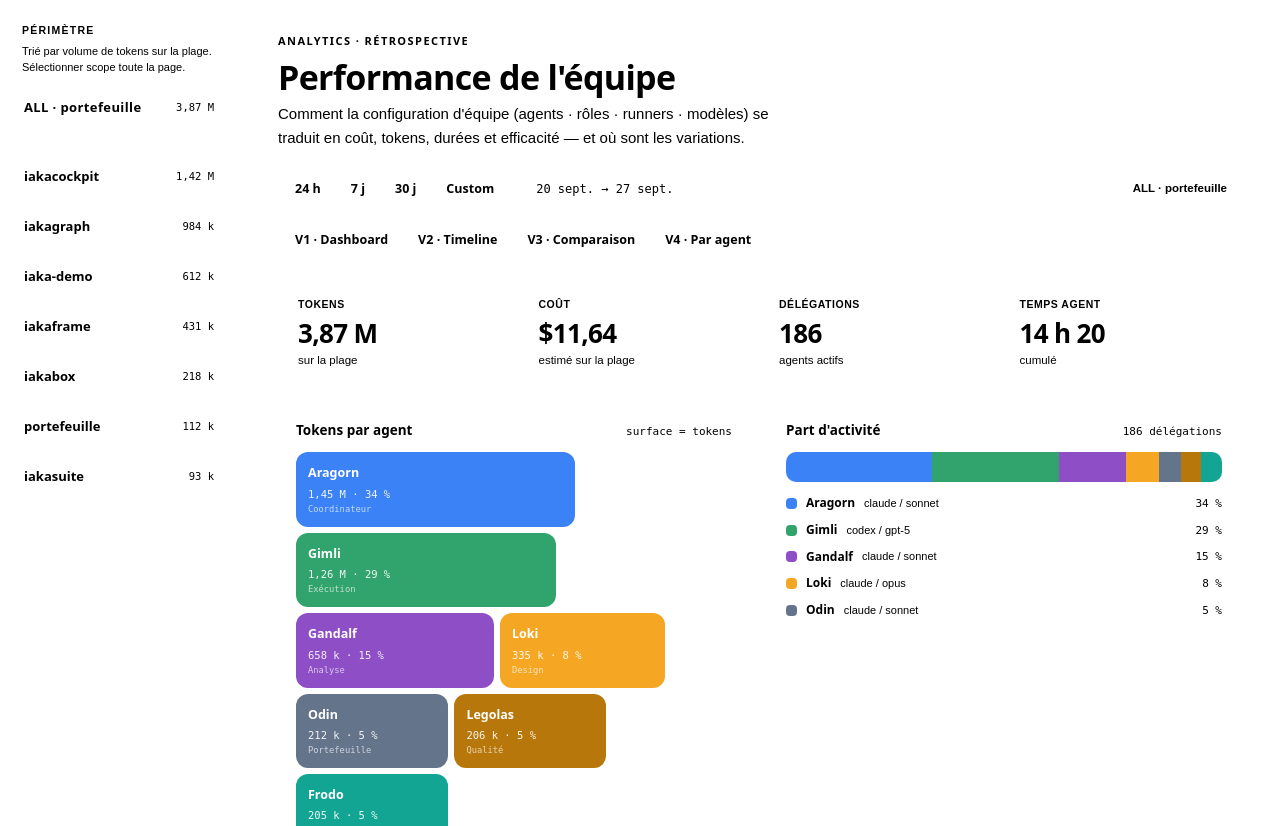
Test: AnalyticsView — toggle de perspective › commute V1→V2→V3→V4 (démo dev-gardée substituée, données réelles absentes)
Expected: the text "Tokens par agent" is shown, [296,420,412,440]
Click the tab "V2 · Timeline". click: (458,240)
box: [404,224,511,255]
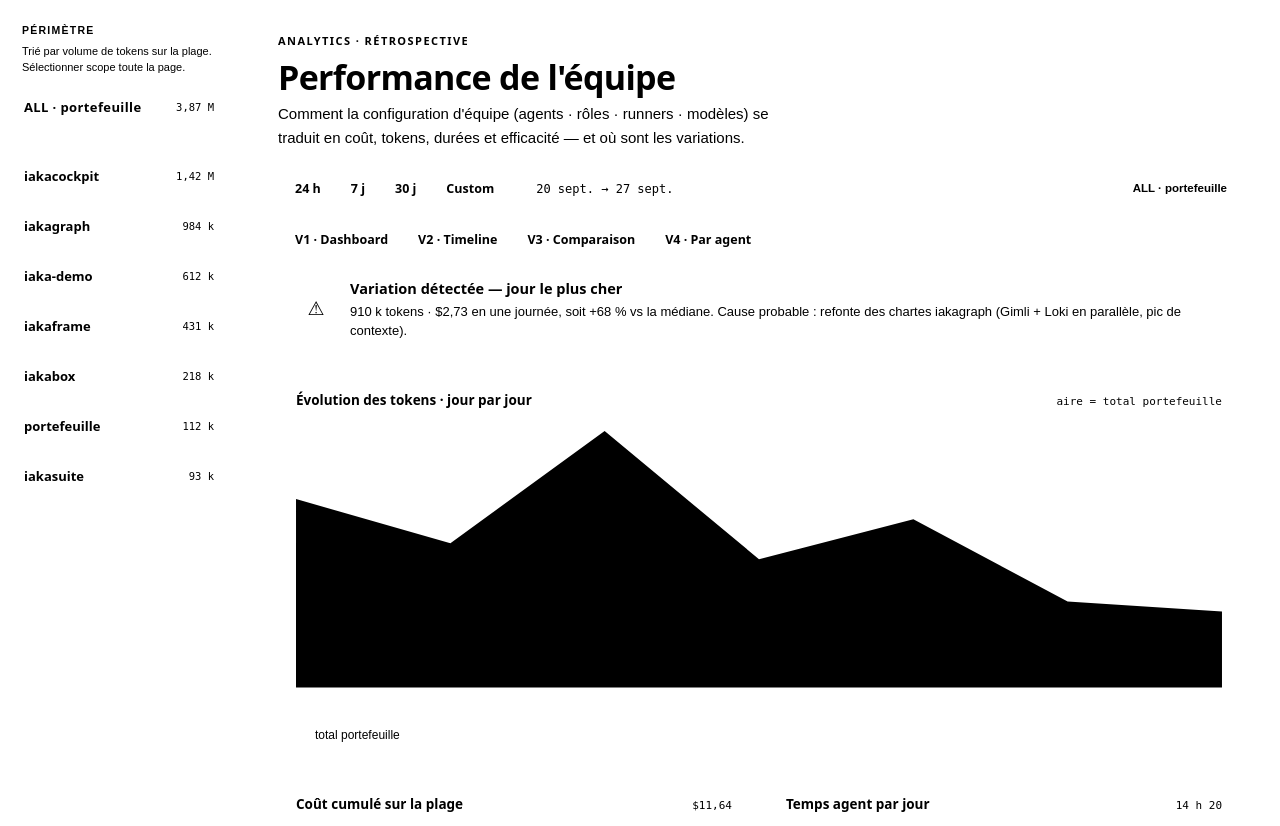
Expected: the text "Évolution des tokens · jour par jour" is shown, [296,390,532,411]
Click the tab "V3 · Comparaison". click: (581,240)
box: [513,224,649,255]
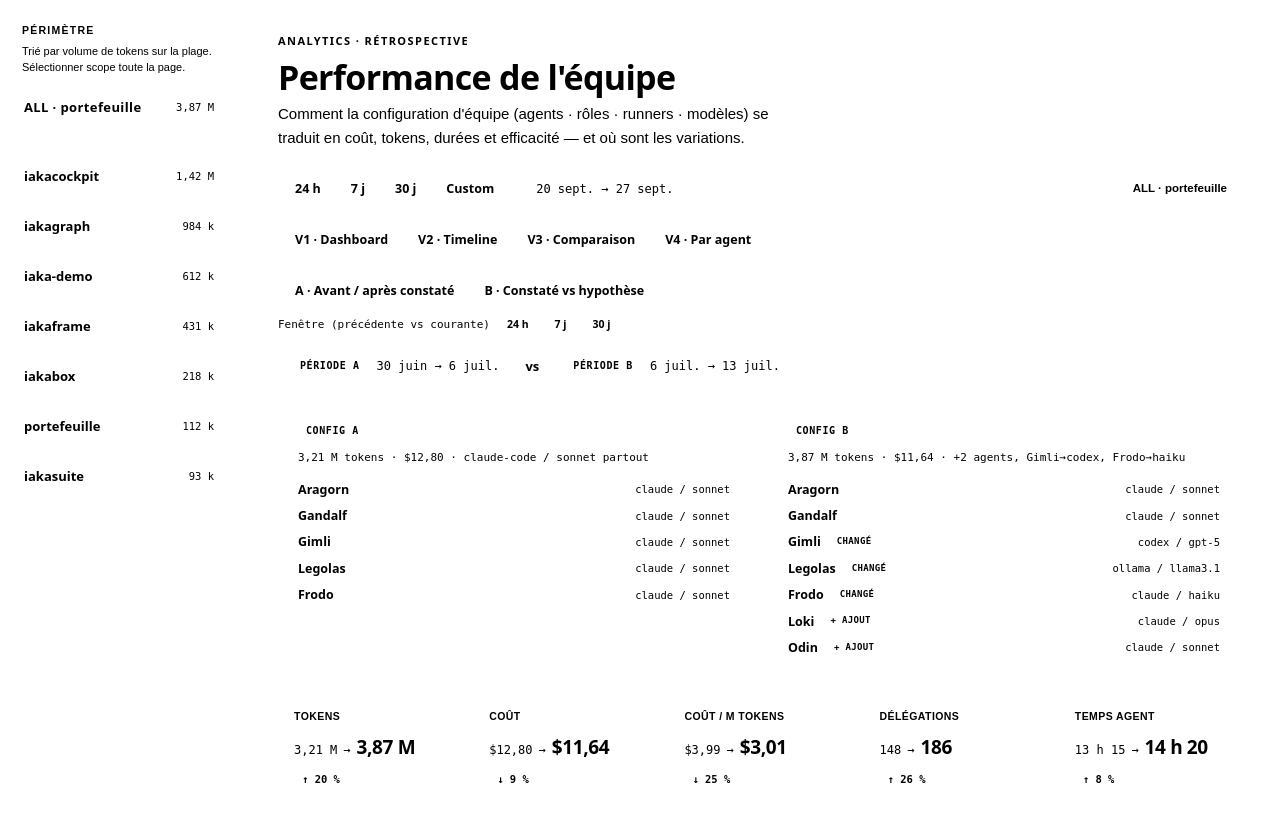
Expected: the text "Config A" is shown, [306,425,359,436]
Click the tab "V4 · Par agent". click: (708,240)
box: [651,224,765,255]
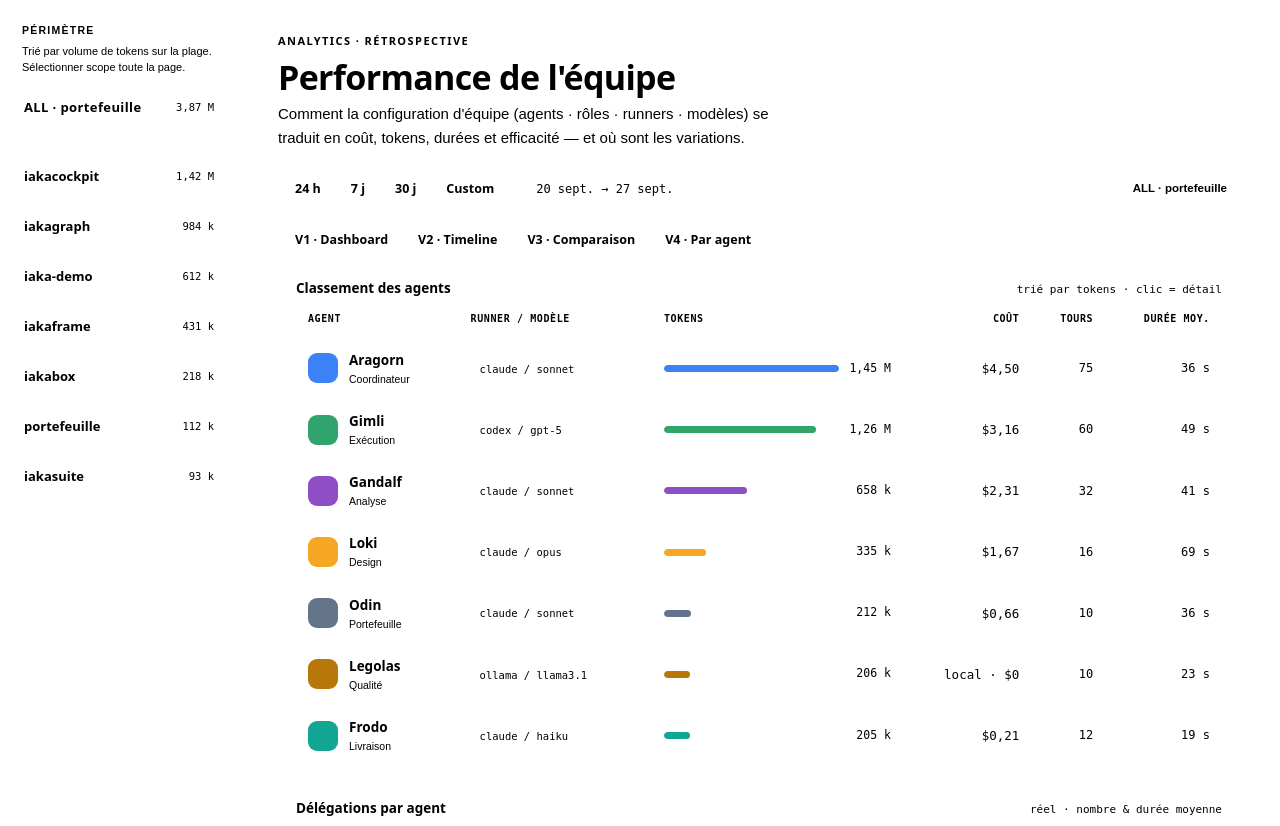
Expected: the text "Classement des agents" is shown, [296,278,451,299]
